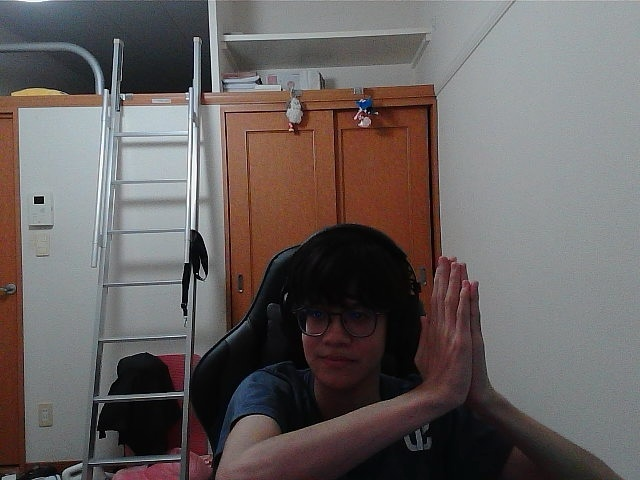pray: (421, 260, 467, 388)
